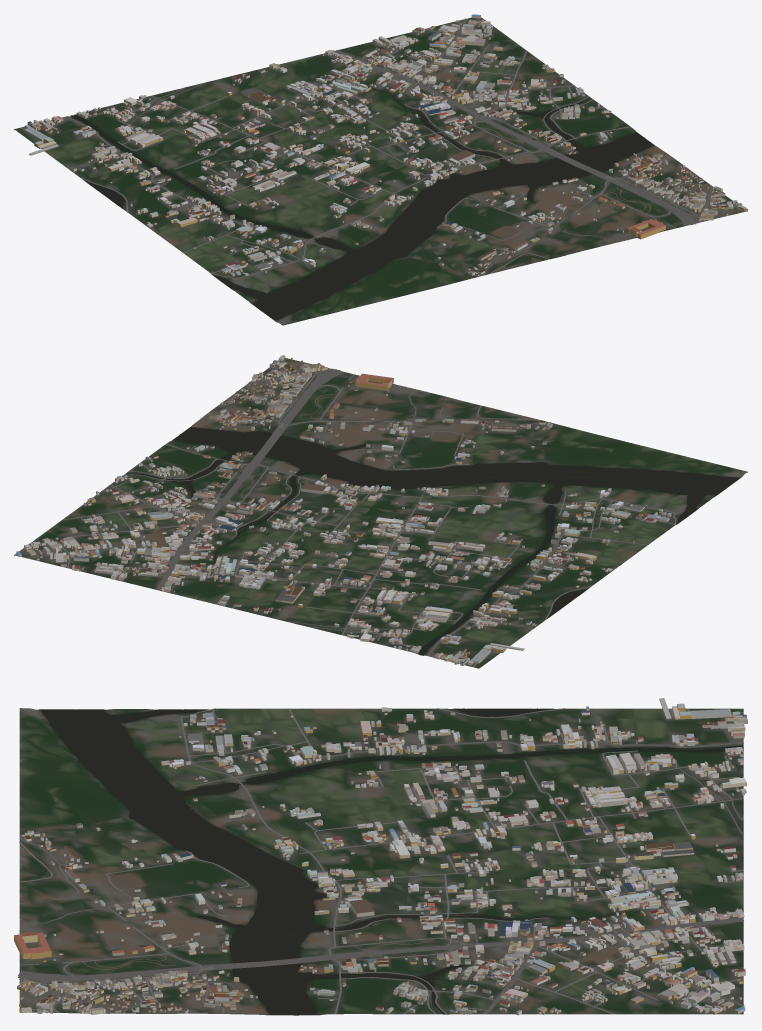
3 renders of one model, top to bottom at view 1: azimuth 30°, elevation 25°; view 2: azimuth 150°, elevation 25°; view 3: azimuth 270°, elevation 25°, orthographic. The views are drawn at different scales.
Parts seen in each view (by area): view 1: ground, buildings, water, roads; view 2: ground, buildings, water, roads; view 3: ground, buildings, water, roads.
Part boxes in pixels (x1,y1,x2,y2): ground: (14, 17, 747, 325); buildings: (24, 14, 747, 276); water: (70, 87, 654, 320); roads: (20, 18, 742, 279); ground: (14, 358, 747, 668); buildings: (16, 355, 671, 665); water: (126, 427, 739, 654); roads: (26, 359, 676, 667); ground: (19, 708, 743, 1015); buildings: (14, 698, 747, 1015); water: (39, 708, 743, 1015); roads: (17, 708, 744, 1014).
Size of the model in its own units: 1449 by 24.47 by 1420.
